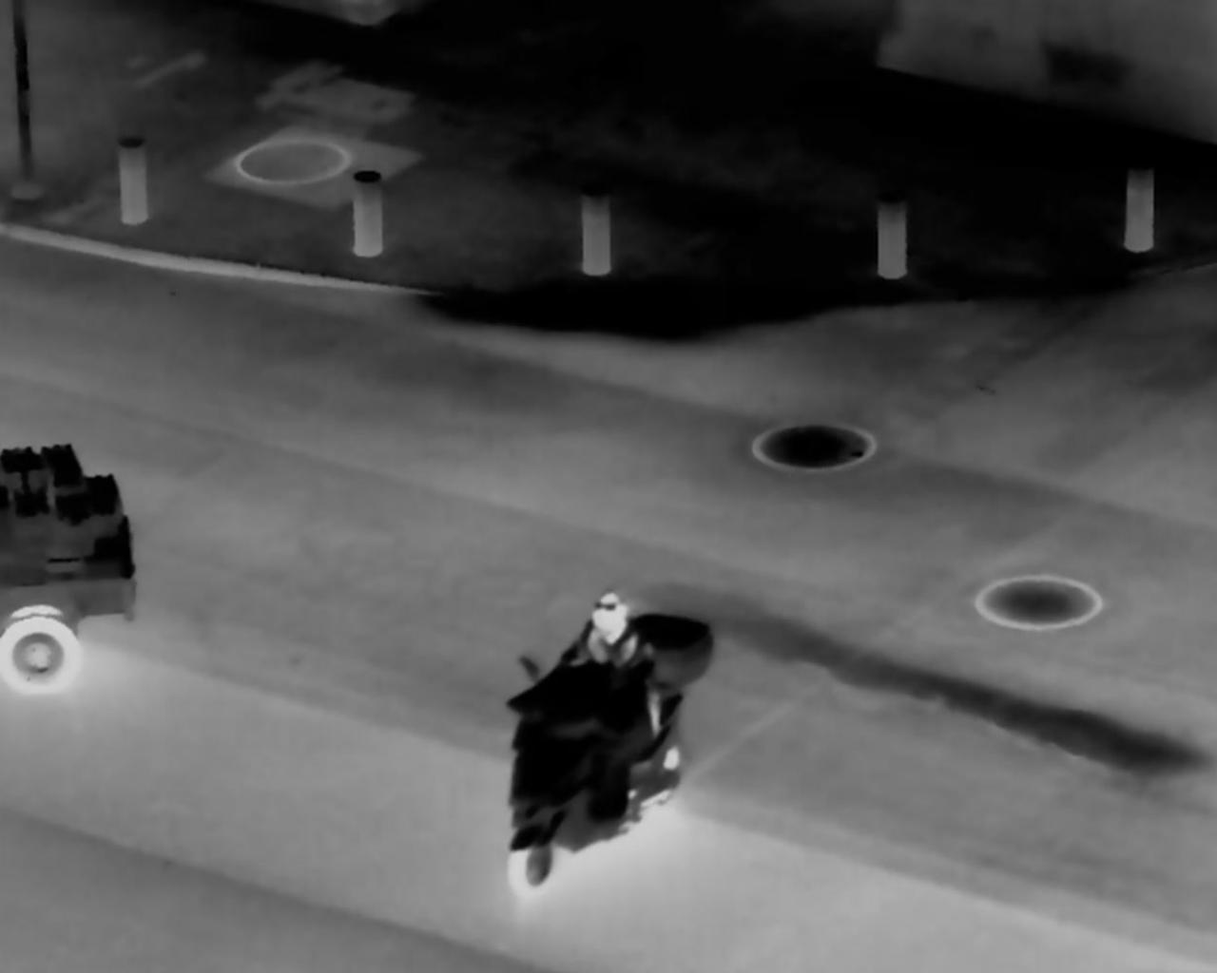person: (556, 586, 660, 724)
